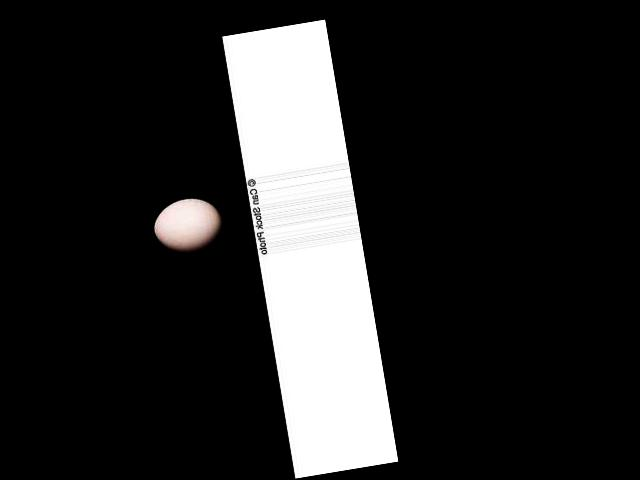egg: (150, 193, 227, 257)
